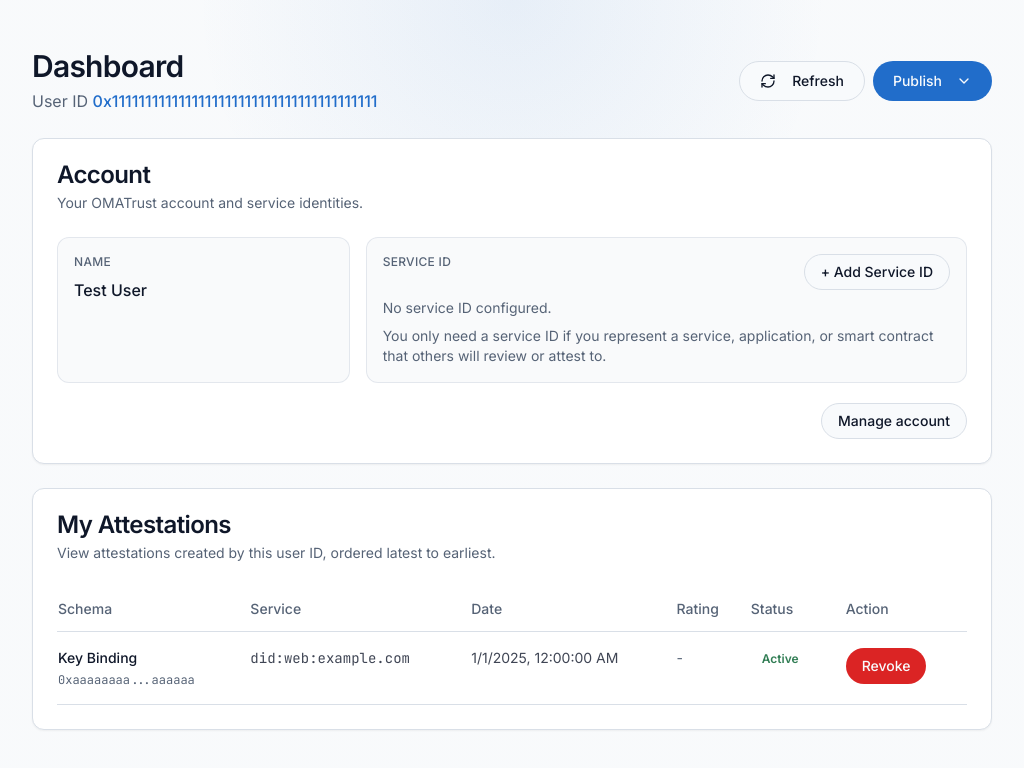
Test: Dashboard Page › closes detail modal when close button is clicked
What coordinates should you click on to do the following:
click the text "Key Binding"
I would click on:
 (98, 658)
Its box is [58,649,137,666].
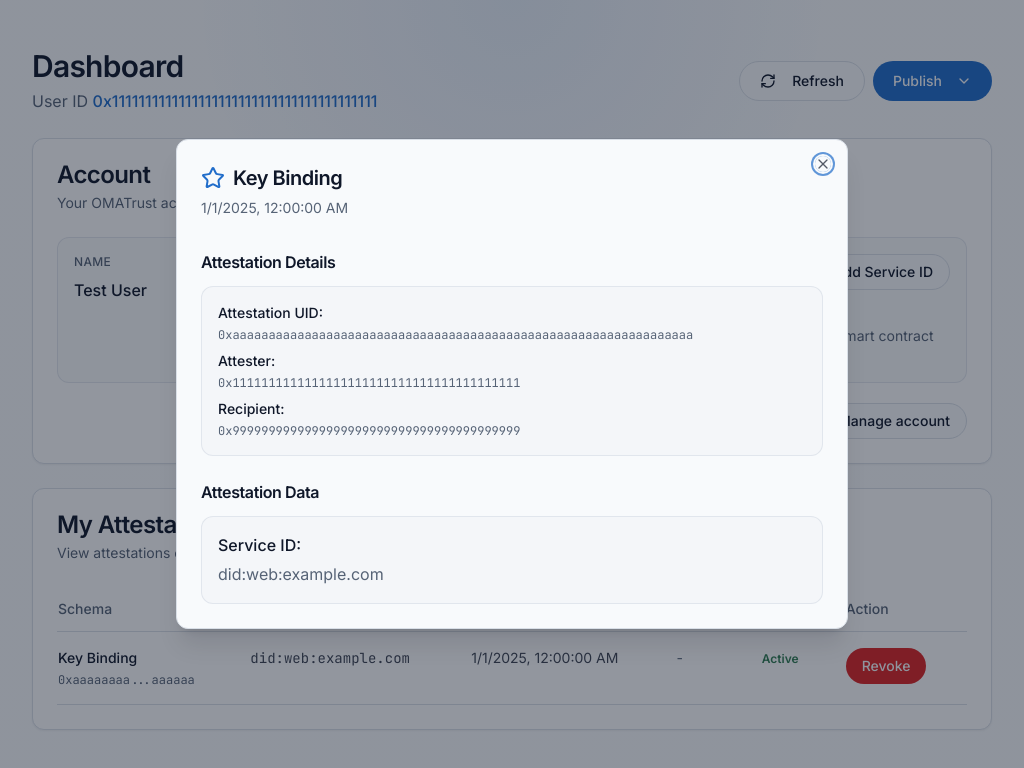
Now the text "Attestation UID:" is shown, box [218,304,323,321]
What coordinates should you click on to do the following:
click the button named "close"
I would click on:
 (823, 164)
Its box is [815,156,831,172].
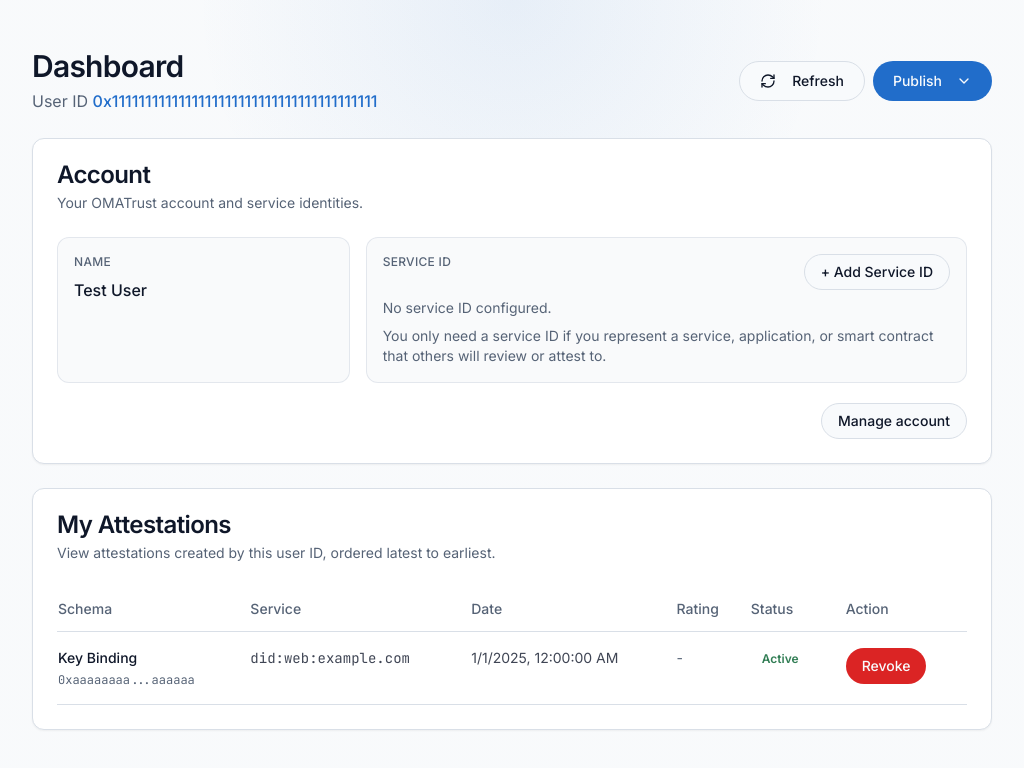
Now the text "UID:" is gone
